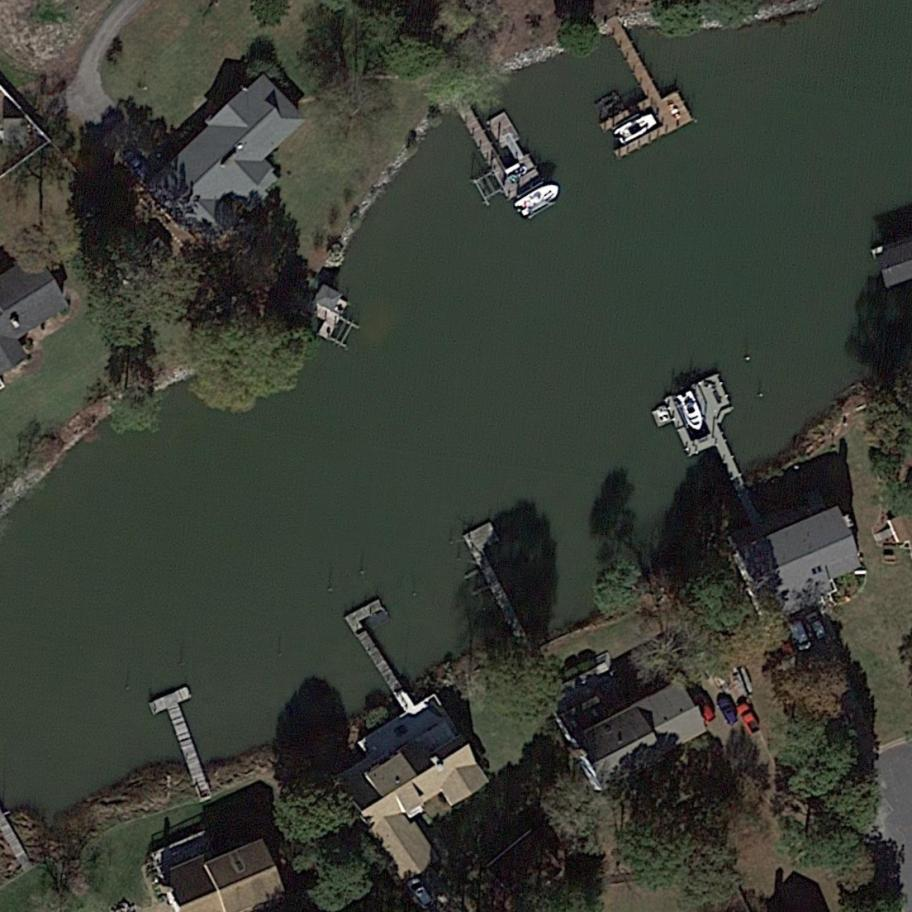ship: (511, 177, 565, 220), (670, 387, 709, 436), (613, 108, 660, 146)
small-vehicle: (402, 875, 435, 912), (734, 701, 764, 738), (689, 690, 719, 725), (715, 693, 745, 727), (786, 617, 814, 653), (804, 610, 829, 641)
